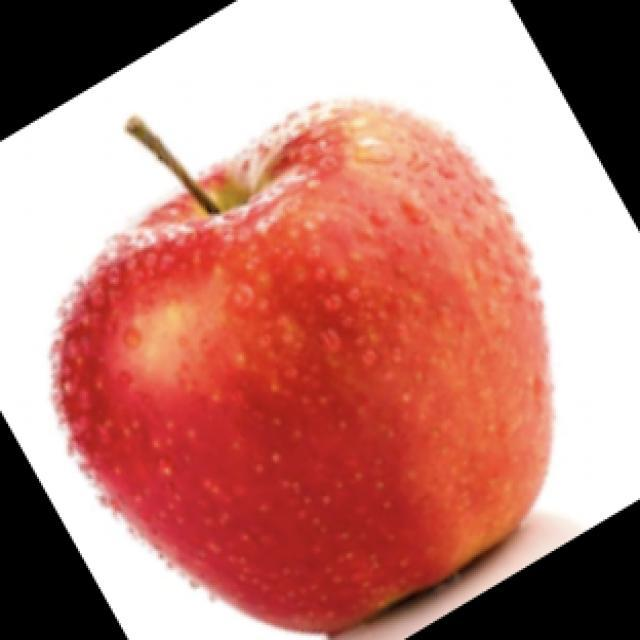Fresh Apple: (66, 126, 608, 640)
